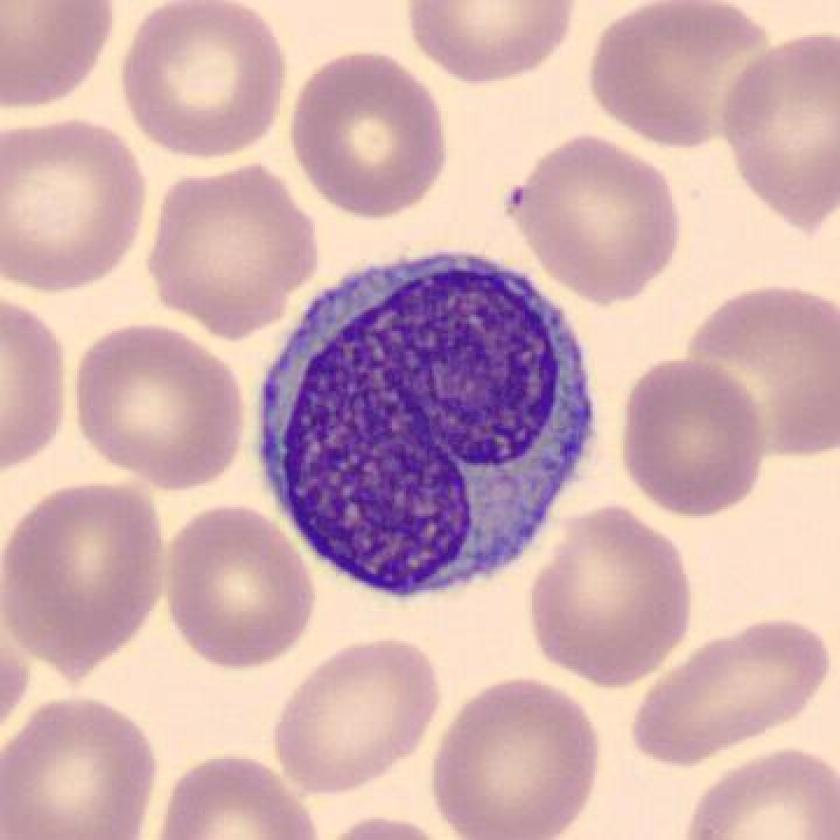monocyte: (244, 237, 608, 607)
